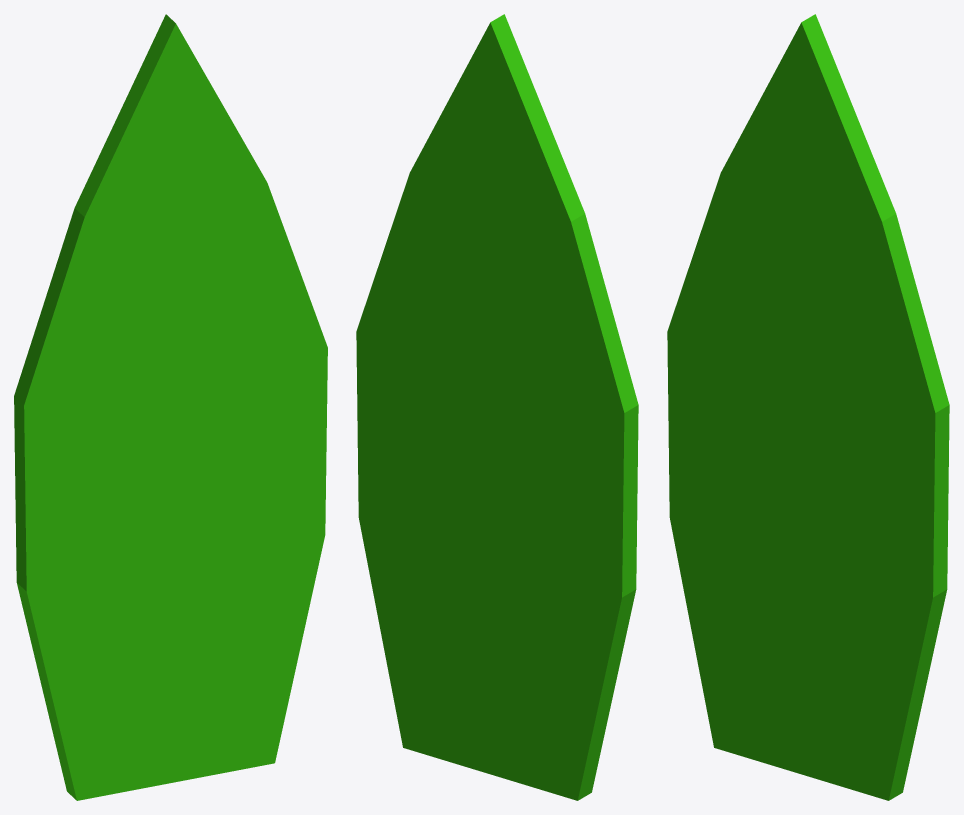
File: Rigged Grass Export 58.fbx
3 renders of one model, left to right at view 1: azimuth 30°, elevation 25°; view 2: azimuth 150°, elevation 25°; view 3: azimuth 330°, elevation 25°, orthographic.
Visible parts, largest first — view 1: Grass 3 Left Right 1; view 2: Grass 3 Left Right 1; view 3: Grass 3 Left Right 1.
Part boxes in pixels (x1=…): Grass 3 Left Right 1: x1=14, y1=14, x2=327, y2=800; Grass 3 Left Right 1: x1=356, y1=14, x2=638, y2=800; Grass 3 Left Right 1: x1=667, y1=14, x2=949, y2=800.
Size of the model in its own units: 135 by 338 by 23.34.
